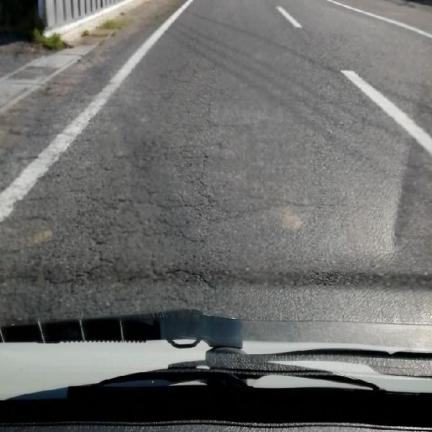Road: (0, 0, 431, 323)
